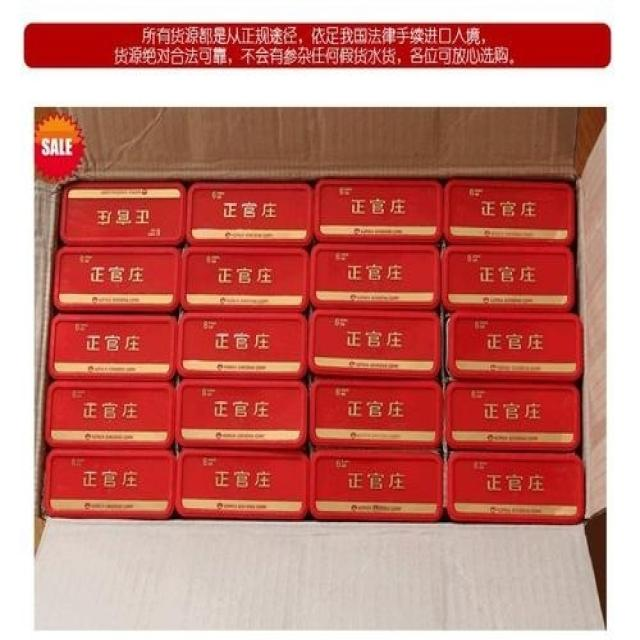box: (32, 107, 607, 631), (445, 451, 584, 524), (445, 310, 584, 382), (308, 377, 444, 448), (310, 450, 444, 522), (444, 381, 581, 451), (173, 379, 307, 450), (175, 448, 308, 519), (307, 308, 443, 377), (42, 381, 174, 451), (443, 178, 576, 247), (174, 310, 307, 379), (442, 242, 573, 311), (46, 313, 178, 381), (308, 244, 440, 311), (312, 178, 444, 244), (179, 247, 311, 313), (45, 450, 175, 517), (51, 244, 180, 311), (58, 179, 187, 245), (186, 181, 314, 247)
